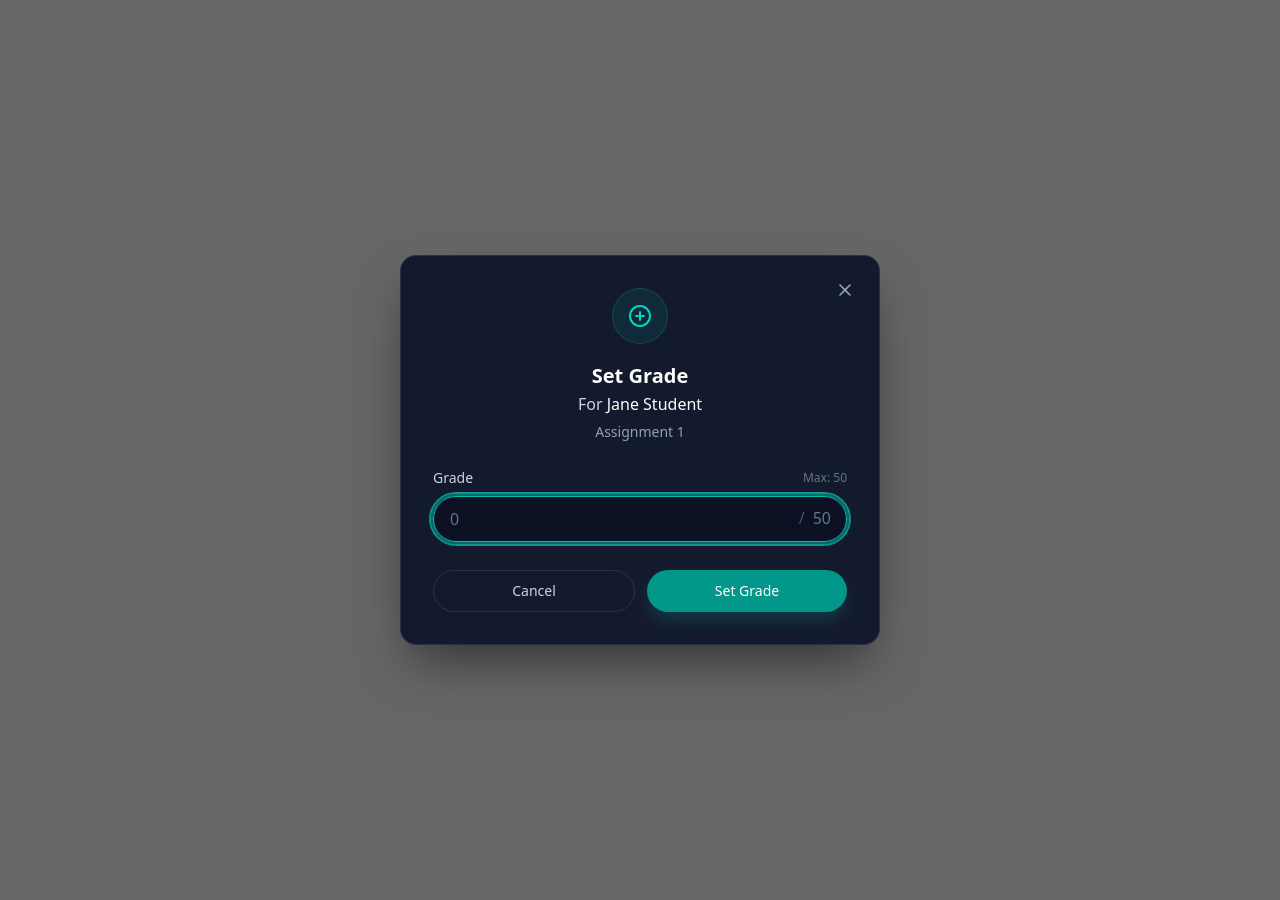
Test: SetGradeModal › shows validation error when grade is out of range
Type "51" into the number field labelled "Grade Max: 50". click: (640, 520)
box: [433,496,847,542]
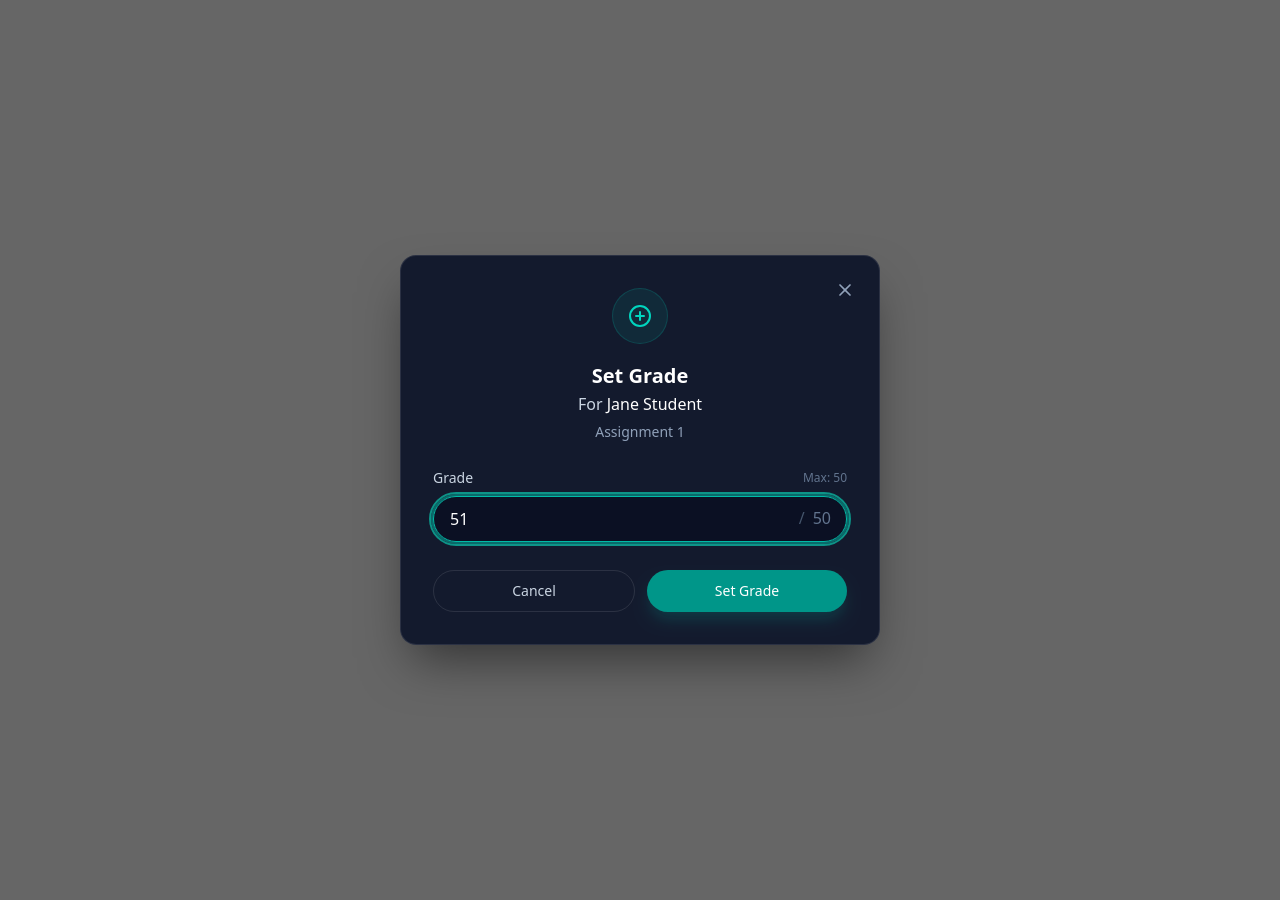
Click the button "Set Grade". click: (747, 592)
box: [647,570,847,612]
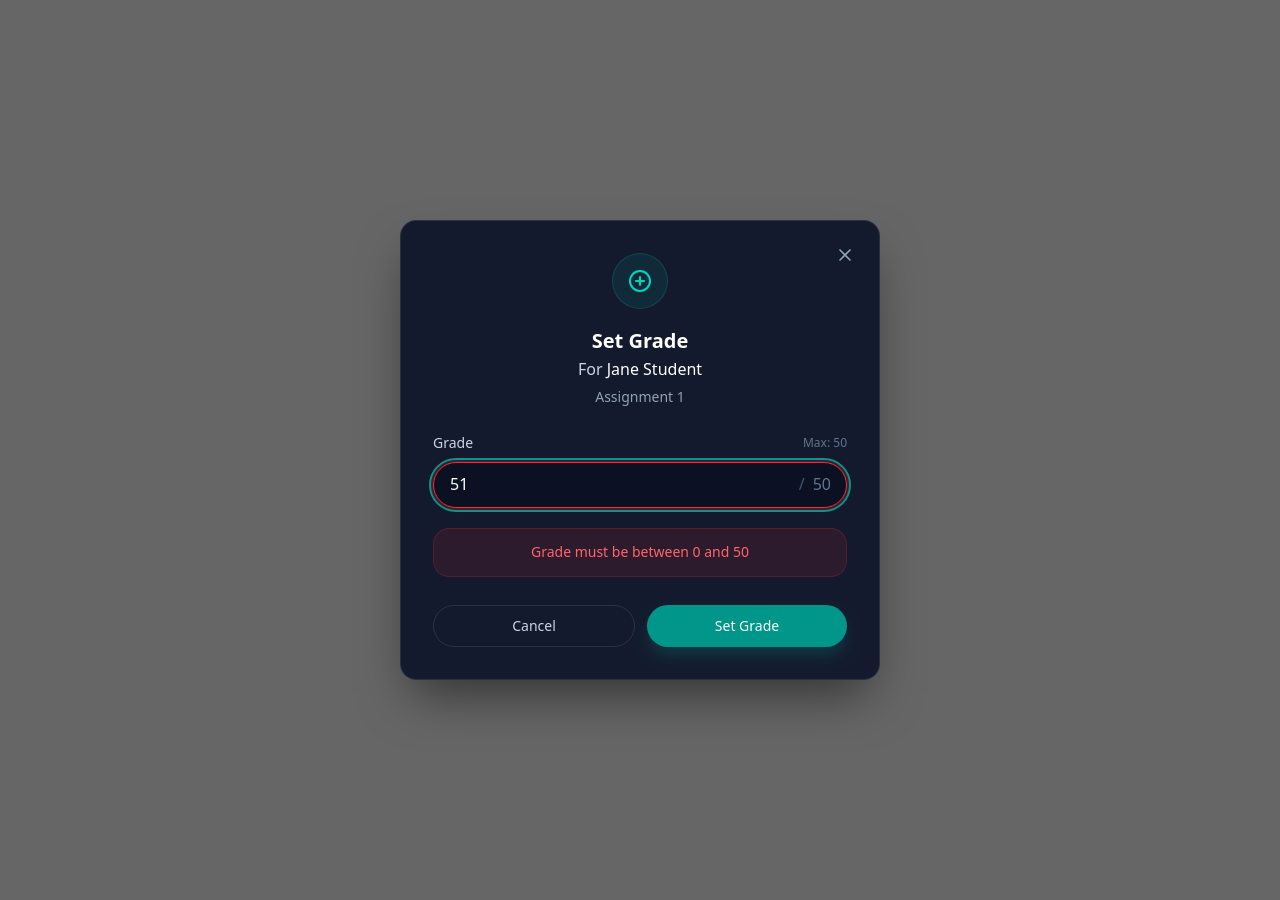
Now the text "Grade must be between 0 and 50" is shown, box [531,542,749,561]
